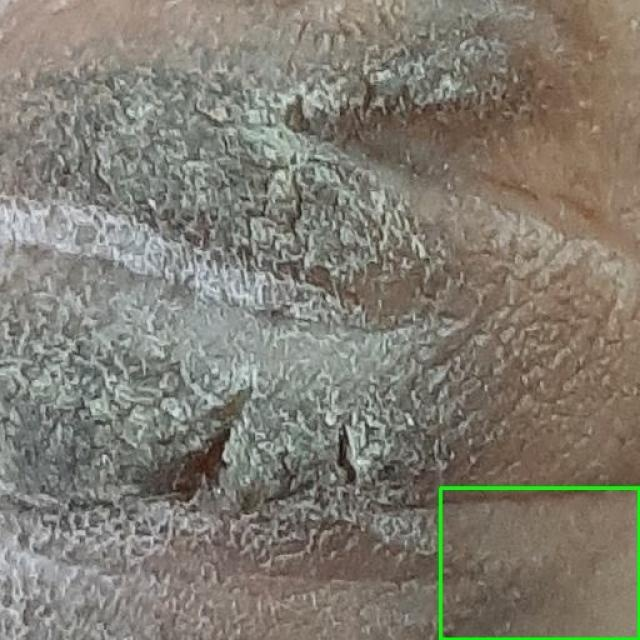Contact Dermatitis: (440, 488, 639, 639)
